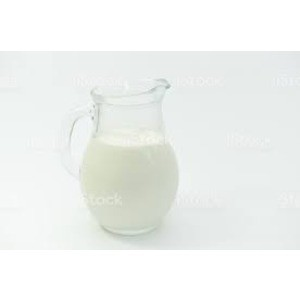milk_brain food: (85, 125, 173, 231)
